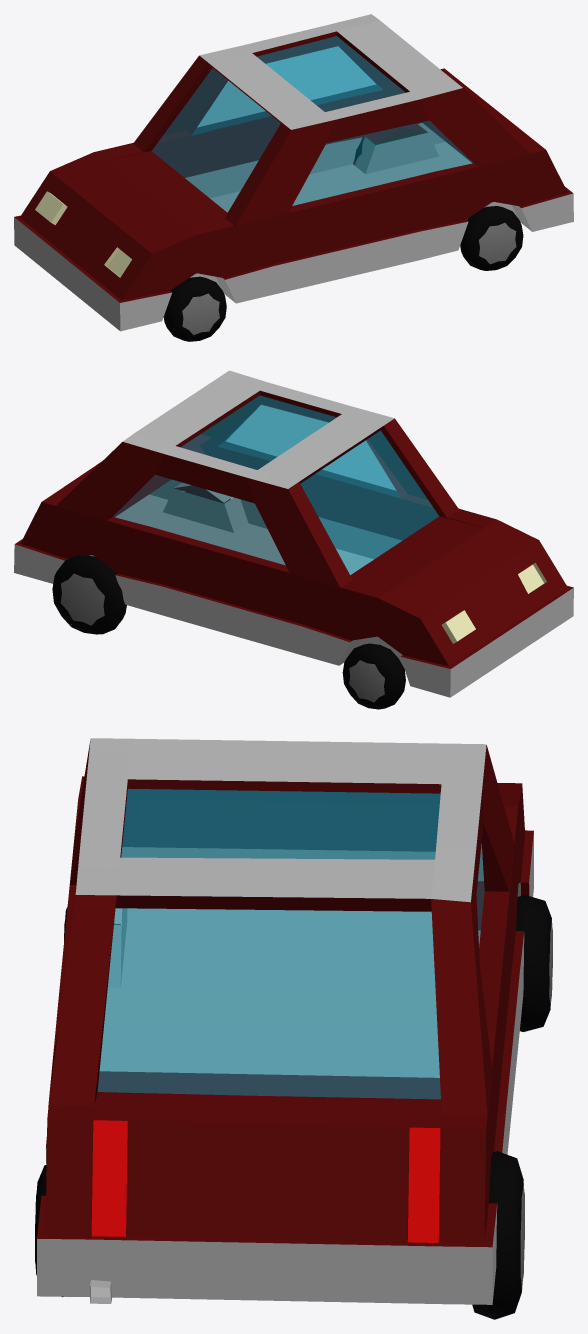
The model's file is just car.fbx.
3 views of the same model, one above another, from view 1: azimuth 30°, elevation 25°; view 2: azimuth 150°, elevation 25°; view 3: azimuth 270°, elevation 25° (orthographic). The views are drawn at different scales.
Visible parts, largest first — view 1: pCylinder5, pCylinder10; view 2: pCylinder5, pCylinder10; view 3: pCylinder5, pCylinder10.
Part boxes in pixels (left/top/right/bottom): pCylinder5: left=14, top=14, right=573, bottom=331; pCylinder10: left=163, top=140, right=523, bottom=341; pCylinder5: left=14, top=370, right=573, bottom=697; pCylinder10: left=52, top=491, right=405, bottom=709; pCylinder5: left=37, top=738, right=533, bottom=1304; pCylinder10: left=35, top=895, right=552, bottom=1319.
Size of the model in its own units: 12.5 by 5.1 by 6.2.
